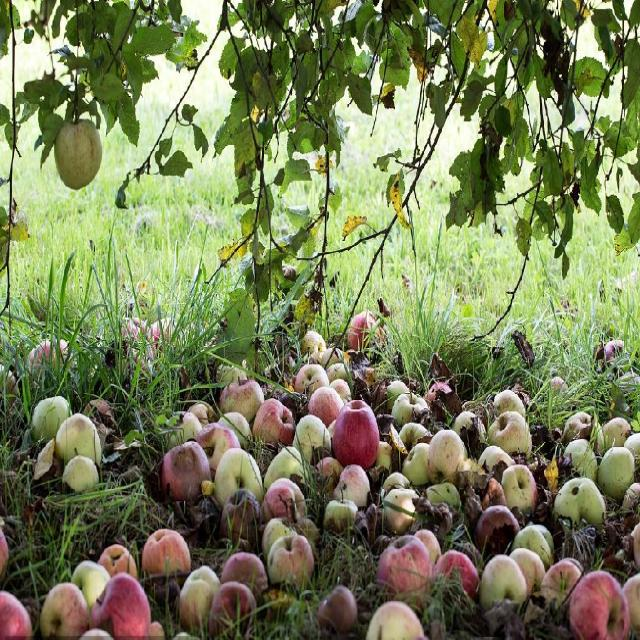Wet Waste: (0, 313, 639, 638), (52, 117, 102, 190)
